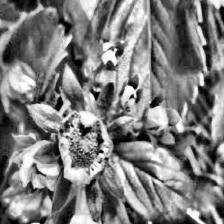Blossom Blight: (58, 113, 114, 181)
